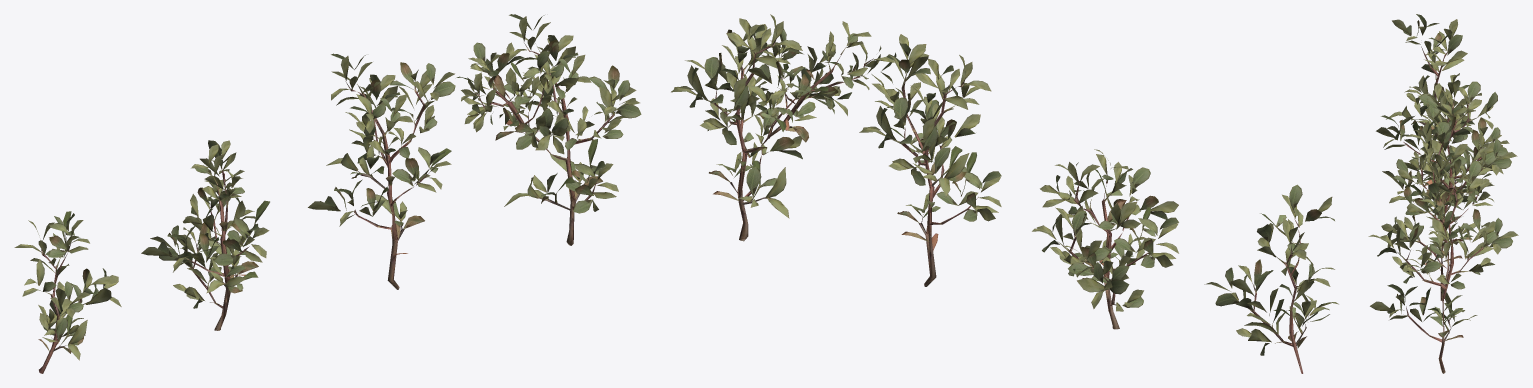
Rendered from shrub_04.glb.
3 views of the same model, side by side, from view 1: azimuth 30°, elevation 25°; view 2: azimuth 150°, elevation 25°; view 3: azimuth 270°, elevation 25° (orthographic). The views are drawn at different scales.
Visible parts, largest first — view 1: shrub_04; view 2: shrub_04; view 3: shrub_04.
Boxes of the visible parts, bbox=[...] form: shrub_04: bbox=[14, 14, 641, 373]; shrub_04: bbox=[671, 14, 1338, 373]; shrub_04: bbox=[1368, 14, 1518, 373].
Bounding box in the file's own units: 0.5837 × 0.2192 × 0.1461.
Materials: 1 (1 with a texture image).
